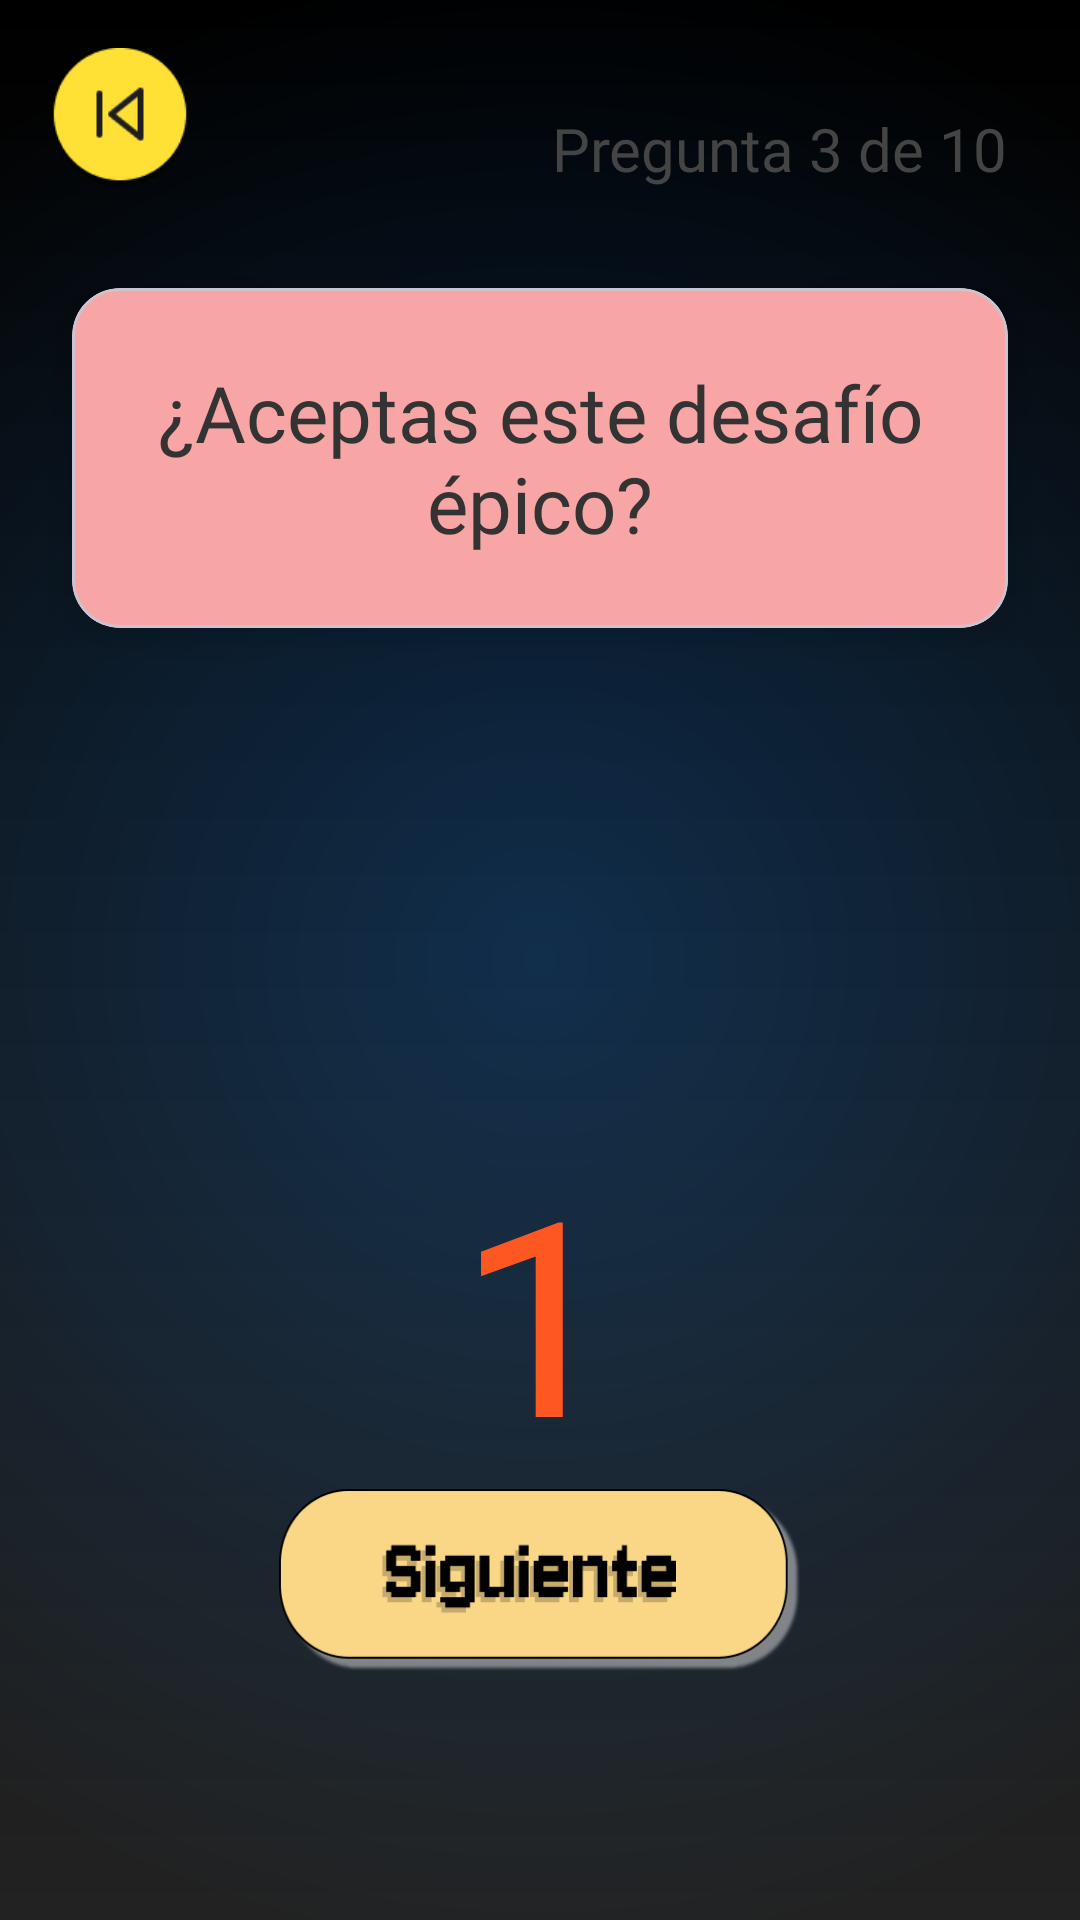

Icon bounding boxes for this 1080*1920 phone screenshot, format box=[x1, y1, x2, y2]:
Botón de retroceso: box=[53, 48, 187, 181]
